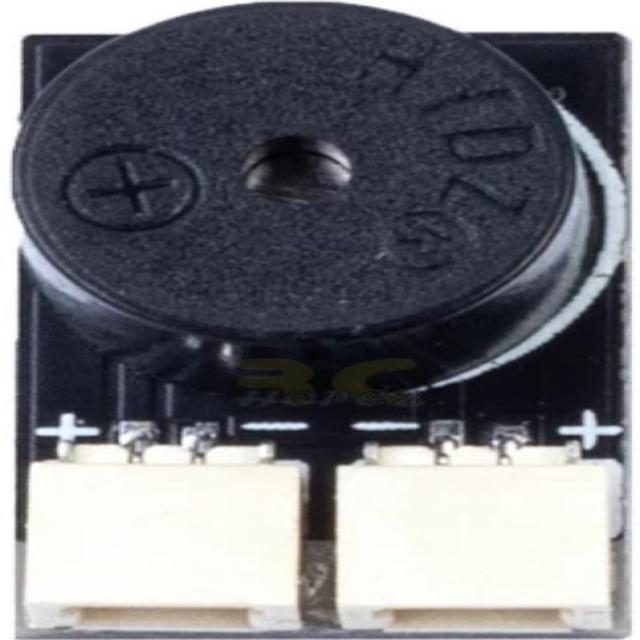buzzer: (3, 1, 638, 398)
connector -5v-: (340, 427, 627, 635), (24, 433, 309, 640)
